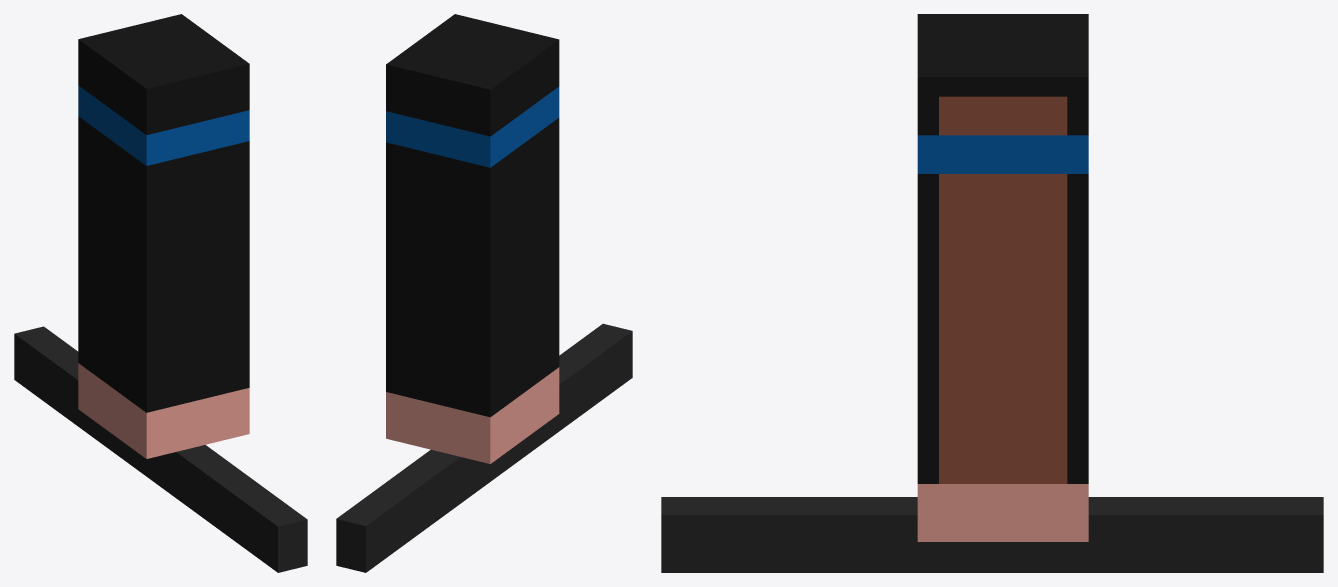
The model's file is Nightwing_Brazo.obj.
3 renders of one model, left to right at view 1: azimuth 30°, elevation 25°; view 2: azimuth 150°, elevation 25°; view 3: azimuth 270°, elevation 25°, orthographic. The views are drawn at different scales.
Parts seen in each view (by area): view 1: Nightwing_Brazo; view 2: Nightwing_Brazo; view 3: Nightwing_Brazo.
Boxes of the visible parts, bbox=[...] form: Nightwing_Brazo: bbox=[14, 14, 307, 572]; Nightwing_Brazo: bbox=[336, 14, 632, 572]; Nightwing_Brazo: bbox=[661, 14, 1323, 572].
Size of the model in its own units: 0.7 by 2.7 by 3.1.
